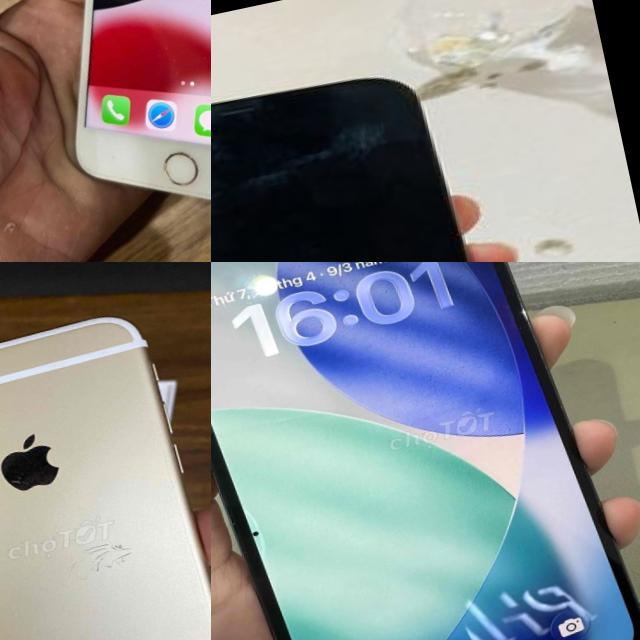scratch: (32, 512, 175, 610)
